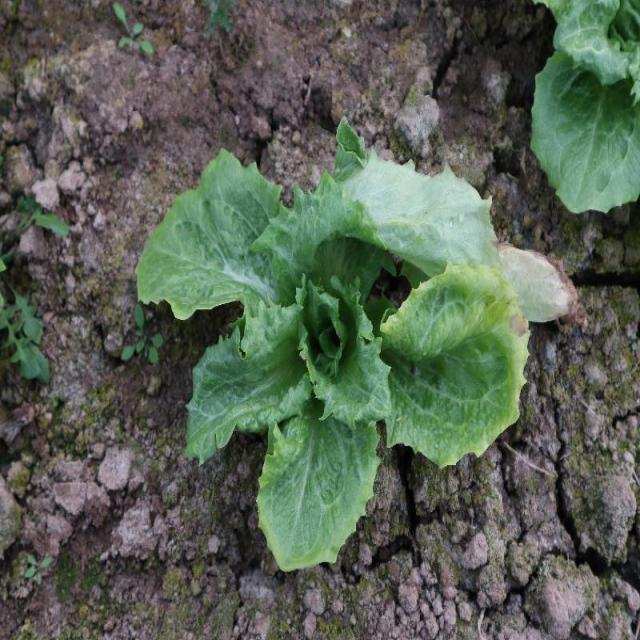crop: (139, 118, 534, 573)
